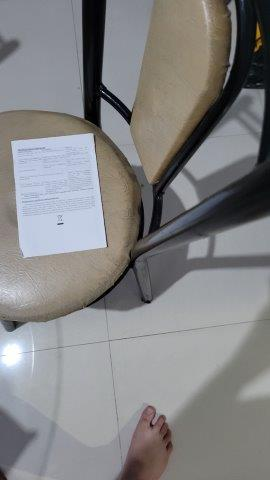kertas: (9, 132, 109, 259)
